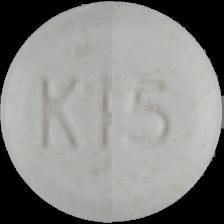60793-115: (0, 0, 224, 224)
